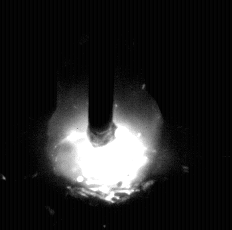arame: (89, 0, 114, 146)
poca: (48, 0, 158, 230)
